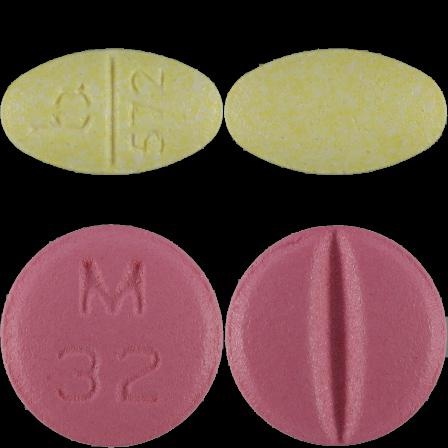43063-439: (0, 0, 224, 224)
